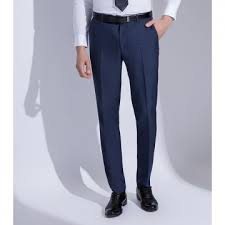F_belt: (87, 7, 160, 28)
F_dress pants: (83, 21, 162, 193)
